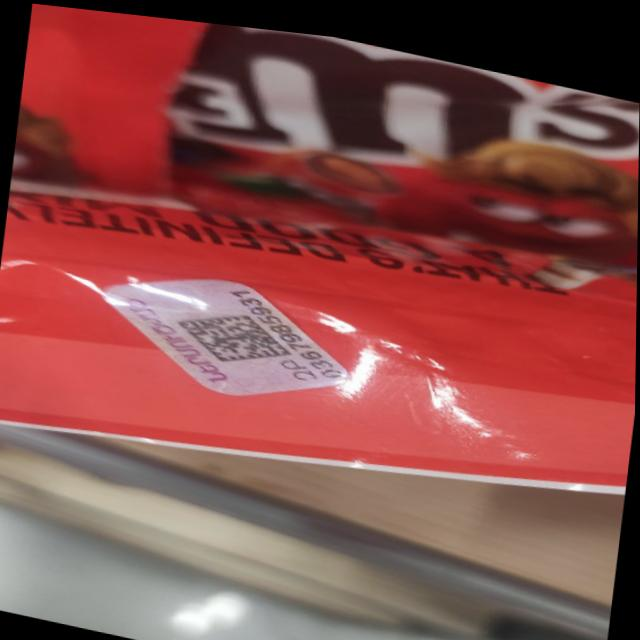datamatrix: (174, 294, 301, 372)
